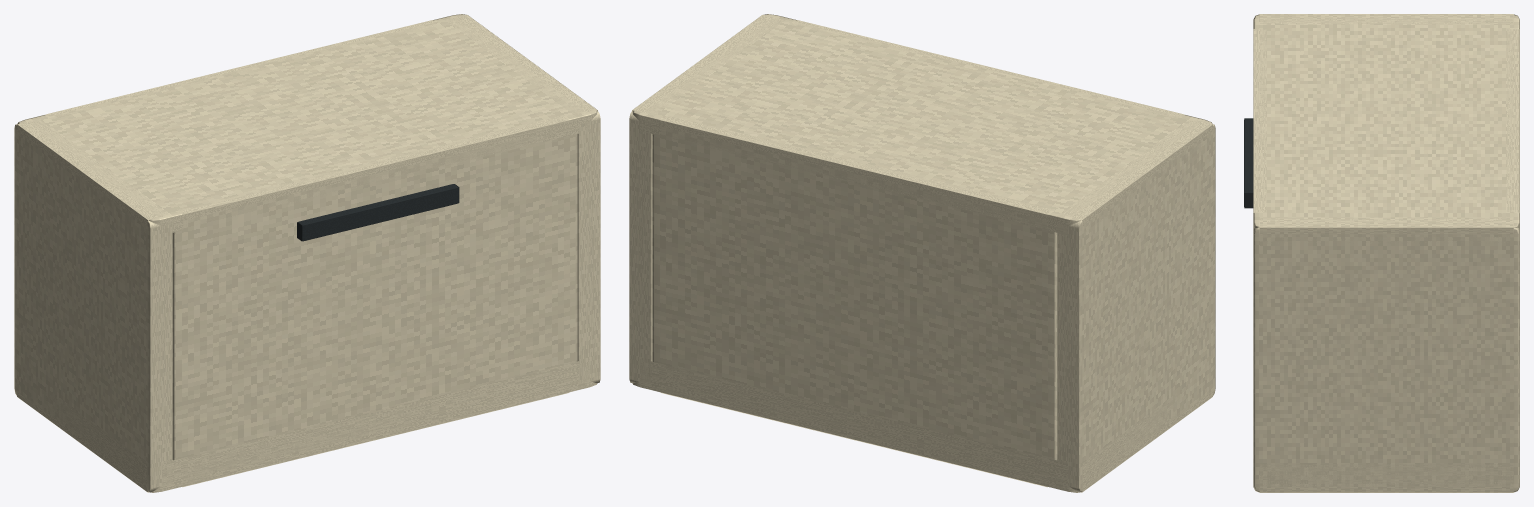
File: masks.glb
The picture shows the model from 3 angles, left to right: view 1: azimuth 30°, elevation 25°; view 2: azimuth 150°, elevation 25°; view 3: azimuth 270°, elevation 25°; orthographic projection. The views are drawn at different scales.
Parts seen in each view (by area): view 1: edge (×2), lid, side (×2), bottom, grip; view 2: edge (×2), lid, side (×2), bottom; view 3: side (×2), lid, bottom, edge (×2), grip.
Boxes of the visible parts, x1,y1,x2,y2 form: edge (×2): (45, 20, 578, 487); lid: (17, 14, 597, 233); side (×2): (14, 14, 600, 492); bottom: (17, 359, 597, 492); grip: (297, 184, 459, 241); edge (×2): (651, 20, 1184, 487); lid: (632, 14, 1212, 235); side (×2): (629, 14, 1215, 492); bottom: (632, 359, 1212, 492); side (×2): (1253, 14, 1519, 492); lid: (1253, 14, 1519, 243); bottom: (1253, 464, 1519, 492); edge (×2): (1253, 29, 1519, 212); grip: (1244, 118, 1253, 208).
Size of the model in its own units: 0.19 by 0.11 by 0.1035.
2 materials, 2 textured.
